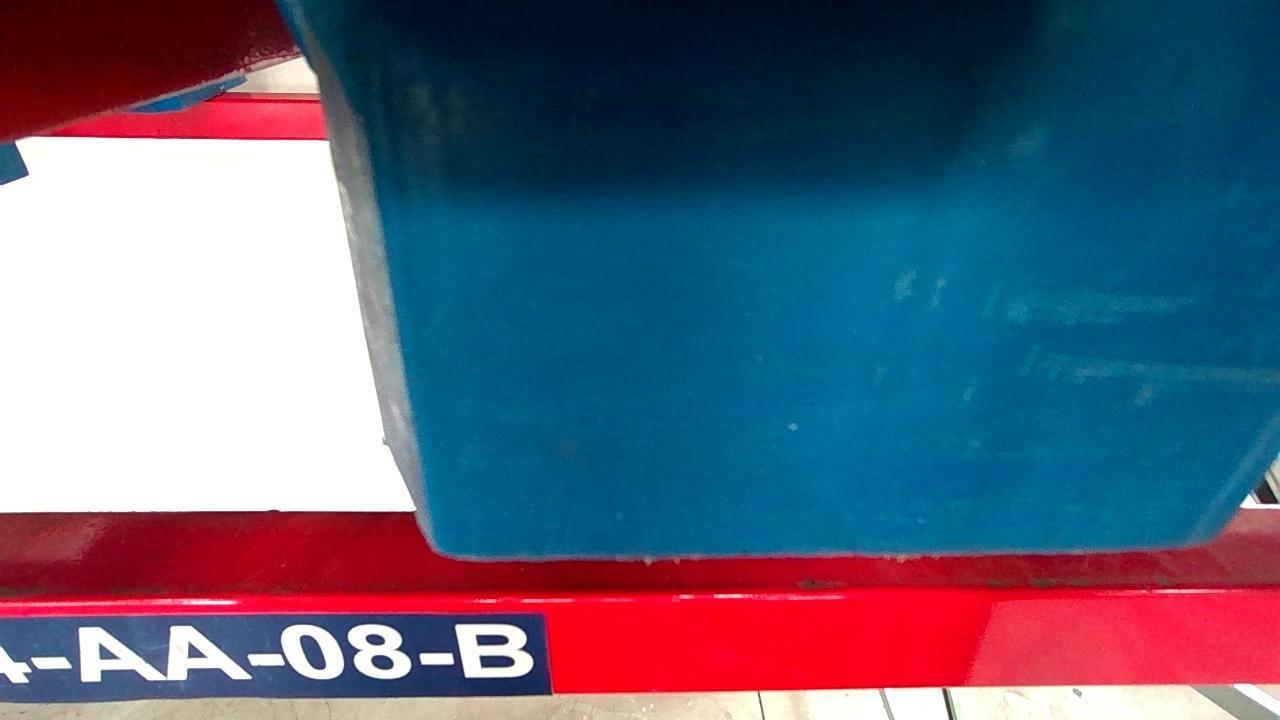h_rack: (1, 585, 1280, 703)
